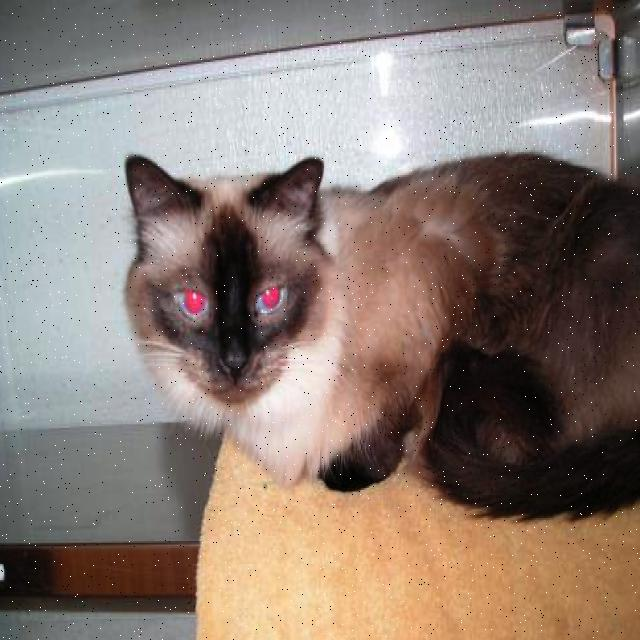Cat: (126, 162, 326, 416)
